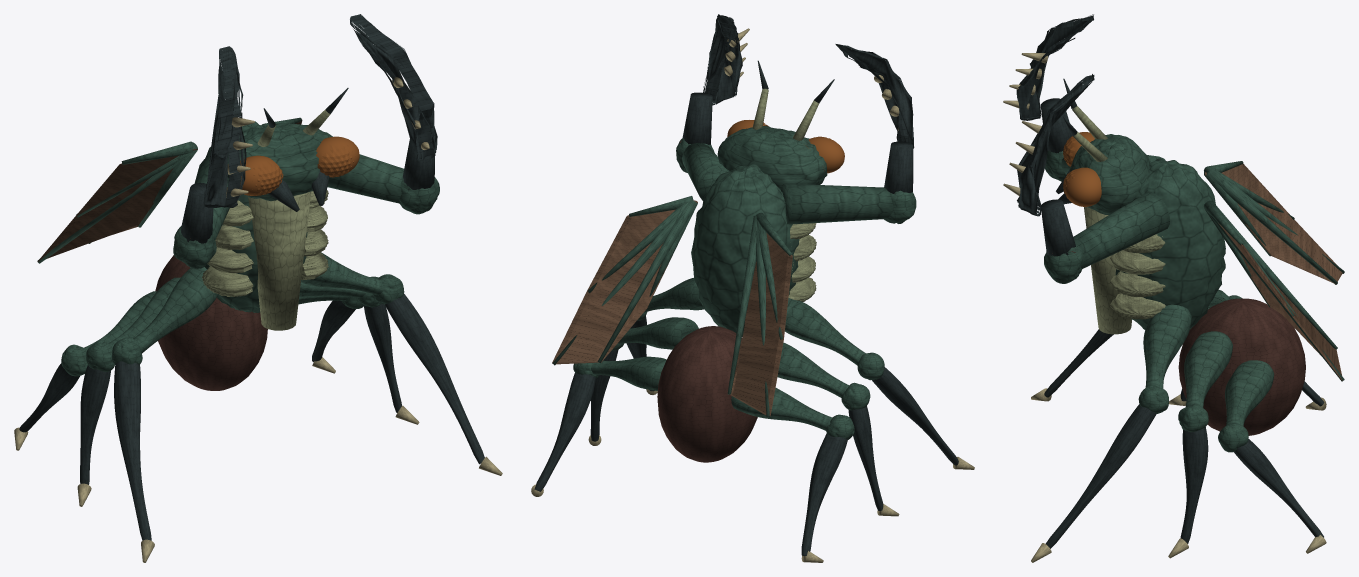
The model's file is LintelMantis.glb.
3 views of the same model, side by side, from view 1: azimuth 30°, elevation 25°; view 2: azimuth 150°, elevation 25°; view 3: azimuth 270°, elevation 25° (orthographic). The views are drawn at different scales.
Visible parts, largest first — view 1: Abdominal taper, Ventral keel, Short wing membrane -1, Curved raptorial blade -1, Curved raptorial blade 1, Head, Shin -1 0, Shin 1 0, Femur -1 0, Raptorial upper arm 1, Shin -1 1, Vertical thorax (+26 smaller); view 2: Vertical thorax, Abdominal taper, Short wing membrane 1, Short wing membrane -1, Head, Raptorial upper arm -1, Curved raptorial blade 1, Curved raptorial blade -1, Femur -1 0, Shin -1 2, Shin 1 2, Femur -1 1 (+21 smaller); view 3: Abdominal taper, Vertical thorax, Head, Raptorial upper arm 1, Short wing membrane -1, Femur 1 0, Shin 1 0, Curved raptorial blade 1, Femur 1 1, Femur 1 2, Curved raptorial blade -1, Short wing membrane 1 (+22 smaller).
Boxes of the visible parts, <box> form: Abdominal taper: <box>155,255,267,390</box>; Ventral keel: <box>248,191,311,330</box>; Short wing membrane -1: <box>37,149,197,261</box>; Curved raptorial blade -1: <box>203,46,246,207</box>; Curved raptorial blade 1: <box>350,14,437,160</box>; Head: <box>227,123,332,201</box>; Shin -1 0: <box>114,361,151,540</box>; Shin 1 0: <box>385,294,484,464</box>; Femur -1 0: <box>133,267,218,353</box>; Raptorial upper arm 1: <box>327,154,403,203</box>; Shin -1 1: <box>80,365,110,484</box>; Vertical thorax: <box>205,121,307,312</box>; Vertical thorax: <box>691,164,799,336</box>; Abdominal taper: <box>657,326,757,462</box>; Short wing membrane 1: <box>552,200,697,364</box>; Short wing membrane -1: <box>730,233,792,416</box>; Head: <box>717,125,827,189</box>; Raptorial upper arm -1: <box>781,183,893,224</box>; Curved raptorial blade 1: <box>703,14,742,105</box>; Curved raptorial blade -1: <box>835,44,914,148</box>; Femur -1 0: <box>785,298,865,365</box>; Shin -1 2: <box>801,433,848,555</box>; Shin 1 2: <box>534,373,595,491</box>; Femur -1 1: <box>777,342,849,397</box>; Abdominal taper: <box>1178,298,1305,435</box>; Vertical thorax: <box>1115,158,1225,329</box>; Head: <box>1069,134,1149,214</box>; Raptorial upper arm 1: <box>1073,191,1169,268</box>; Short wing membrane -1: <box>1205,163,1342,284</box>; Femur 1 0: <box>1143,304,1191,388</box>; Shin 1 0: <box>1045,404,1156,548</box>; Curved raptorial blade 1: <box>1017,74,1094,216</box>; Femur 1 1: <box>1184,331,1232,407</box>; Femur 1 2: <box>1225,360,1274,426</box>; Curved raptorial blade -1: <box>1016,14,1093,120</box>; Short wing membrane 1: <box>1218,223,1342,380</box>.
Size of the model in its own units: 1.52 by 1.87 by 1.33.
7 materials, 6 textured.
